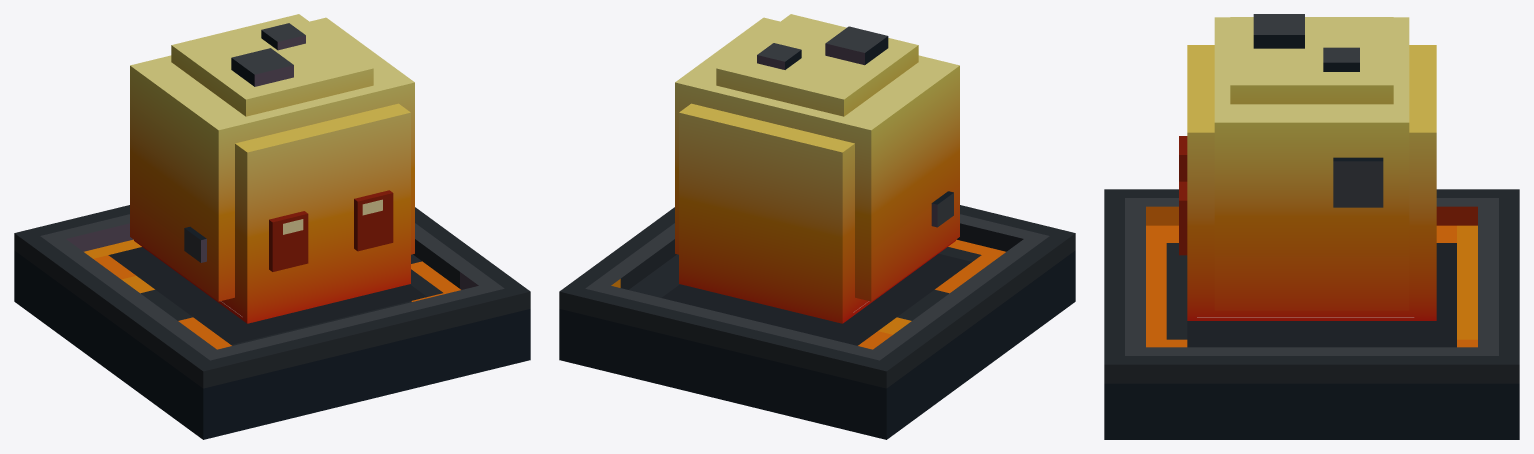
Rendered from Tower_Flame_LVL4.fbx.
3 renders of one model, left to right at view 1: azimuth 30°, elevation 25°; view 2: azimuth 150°, elevation 25°; view 3: azimuth 270°, elevation 25°, orthographic. The views are drawn at different scales.
Visible parts, largest first — view 1: Base, Body, Hair, HairTop, HairTop9, HairTop8, HairTop7; view 2: Base, Body, Hair, HairTop, HairTop9, HairTop8, HairTop7; view 3: Base, Hair, Body, HairTop, HairTop6, HairTop9, HairTop8.
Part boxes in pixels (x1,y1,x2,y2): Base: (14,205,530,439); Body: (134,103,410,323); Hair: (130,17,414,301); HairTop: (171,14,373,116); HairTop9: (231,48,293,86); HairTop8: (261,23,305,50); HairTop7: (184,226,206,262); Base: (559,205,1075,439); Body: (679,103,955,323); Hair: (675,17,959,301); HairTop: (716,14,918,116); HairTop9: (825,26,888,65); HairTop8: (757,43,801,69); HairTop7: (931,191,953,227); Base: (1104,189,1519,439); Hair: (1214,17,1409,310); Body: (1179,45,1436,320); HairTop: (1230,17,1393,104); HairTop6: (1333,157,1383,207); HairTop9: (1253,14,1304,48); HairTop8: (1323,47,1359,71).
Bounding box in the file's own units: 100 × 83.58 × 100.
